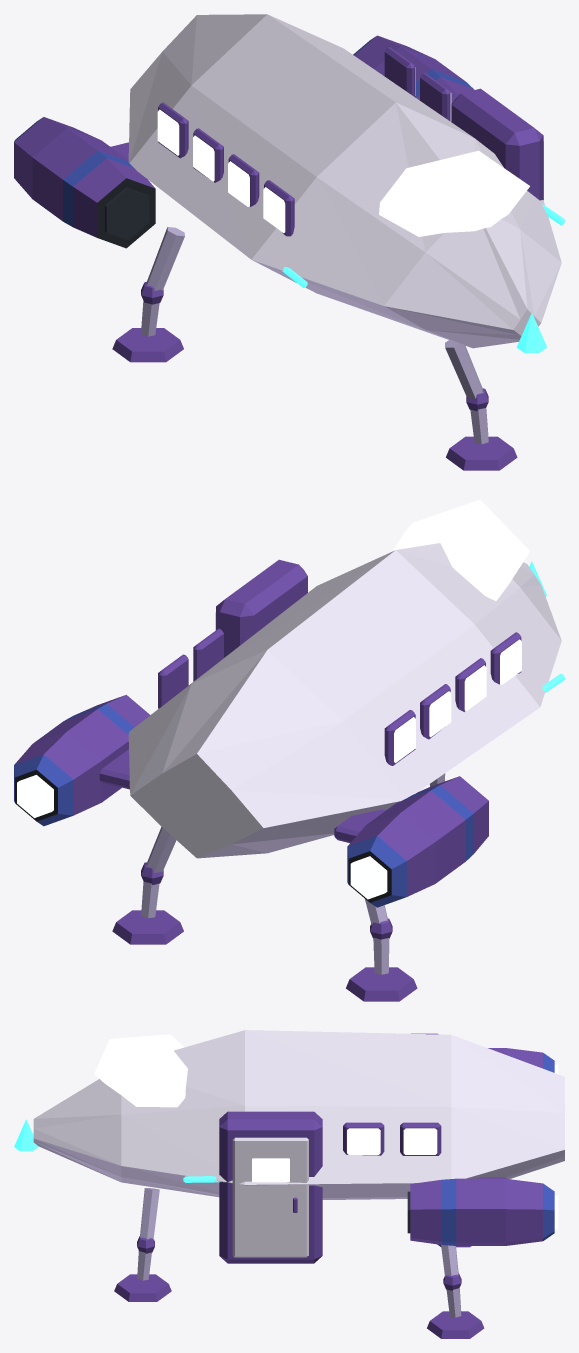
Rendered from pri-p_gelandet.glb.
The picture shows the model from 3 angles, top to bottom: view 1: azimuth 30°, elevation 25°; view 2: azimuth 150°, elevation 25°; view 3: azimuth 270°, elevation 25°; orthographic projection. The views are drawn at different scales.
Visible parts, largest first — view 1: rumpf, triebwerk_r, cockpit, fenster, türmodul, landebein_3, landebein_1, triebwerk_l, lichtakzente; view 2: rumpf, triebwerk_r, triebwerk_l, fenster, cockpit, türmodul, landebein_2, landebein_3, pylone; view 3: rumpf, triebwerk_l, tür, türmodul, cockpit, fenster, landebein_1, landebein_2, triebwerk_r, lichtakzente.
Part boxes in pixels (x1=…): rumpf: x1=128, y1=14, x2=561, y2=348; triebwerk_r: x1=14, y1=117, x2=155, y2=248; cockpit: x1=379, y1=150, x2=529, y2=236; fenster: x1=157, y1=47, x2=451, y2=236; türmodul: x1=451, y1=88, x2=543, y2=200; landebein_3: x1=112, y1=227, x2=184, y2=362; landebein_1: x1=445, y1=340, x2=517, y2=470; triebwerk_l: x1=353, y1=35, x2=474, y2=121; lichtakzente: x1=282, y1=204, x2=564, y2=352; rumpf: x1=128, y1=543, x2=561, y2=858; triebwerk_r: x1=347, y1=776, x2=488, y2=907; triebwerk_l: x1=14, y1=694, x2=150, y2=826; fenster: x1=157, y1=628, x2=521, y2=765; cockpit: x1=392, y1=499, x2=530, y2=600; türmodul: x1=216, y1=559, x2=307, y2=657; landebein_2: x1=112, y1=827, x2=183, y2=944; landebein_3: x1=346, y1=899, x2=417, y2=1001; pylone: x1=99, y1=749, x2=385, y2=842; rumpf: x1=33, y1=1030, x2=564, y2=1199; triebwerk_l: x1=407, y1=1178, x2=558, y2=1245; tür: x1=232, y1=1137, x2=308, y2=1257; türmodul: x1=219, y1=1111, x2=322, y2=1263; cockpit: x1=94, y1=1034, x2=187, y2=1107; fenster: x1=343, y1=1033, x2=441, y2=1155; landebein_1: x1=114, y1=1188, x2=171, y2=1301; landebein_2: x1=427, y1=1245, x2=484, y2=1338; triebwerk_r: x1=488, y1=1048, x2=558, y2=1073; lichtakzente: x1=14, y1=1119, x2=219, y2=1182.
Size of the model in its own units: 0.0906 by 0.0675 by 0.1335.
